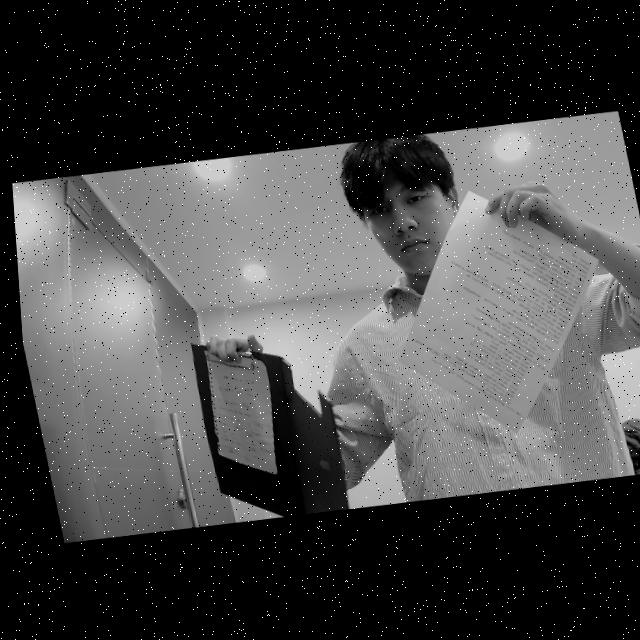document: (399, 190, 600, 434), (206, 350, 278, 476)
face: (355, 165, 461, 279)
